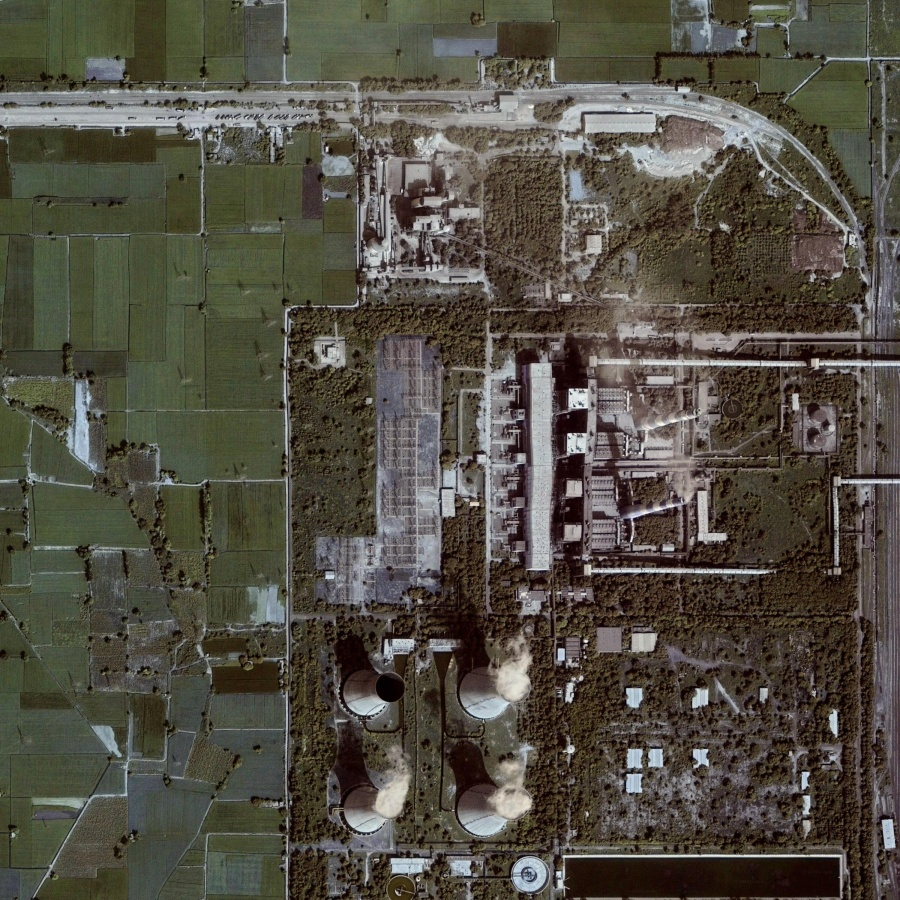PowerPlant: (310, 337, 877, 853)
